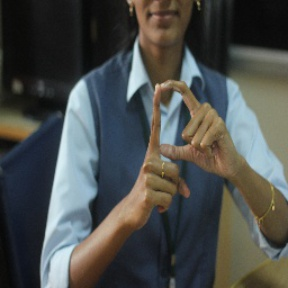D: (143, 77, 221, 175)
